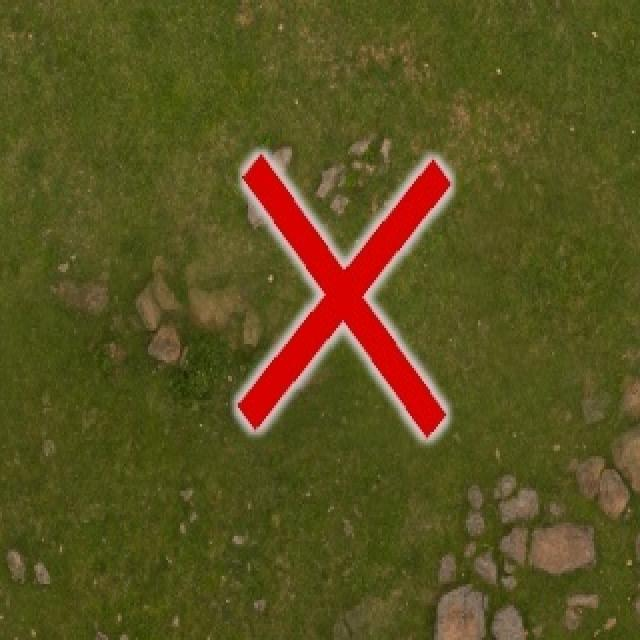x_marker: (237, 153, 449, 436)
